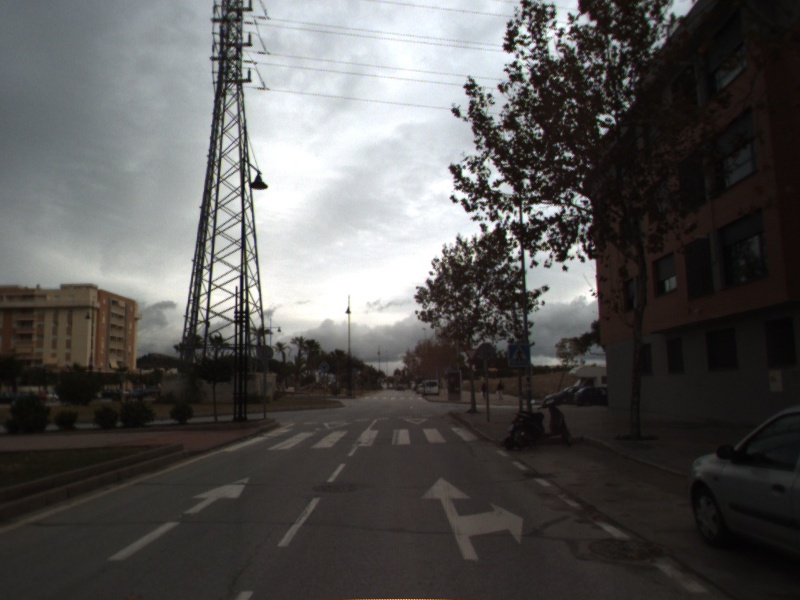STRAIGHT: (105, 474, 253, 563)
STRAIGHT_RIGHT: (418, 475, 526, 563)
